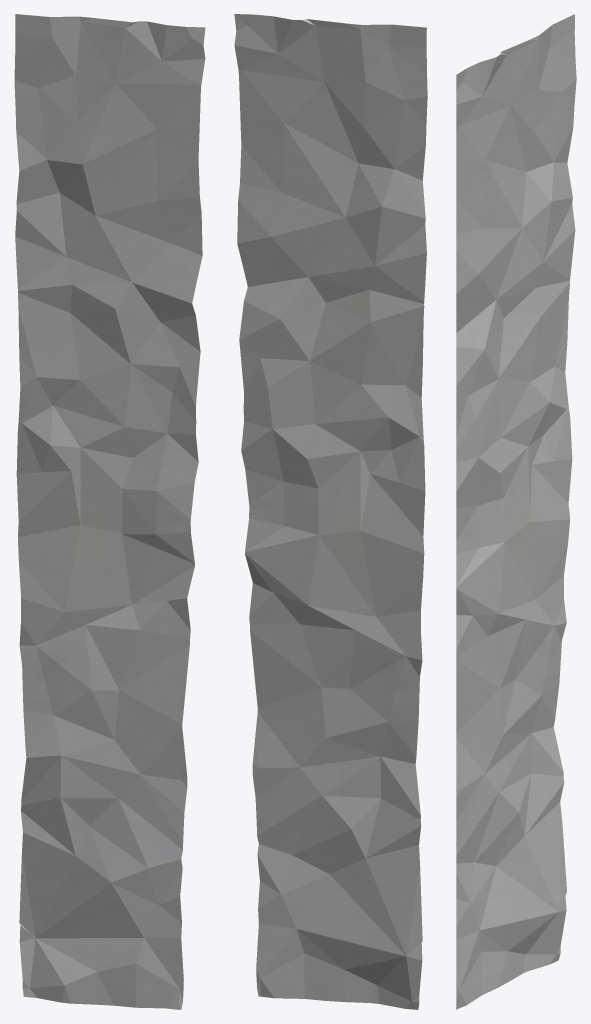
The picture shows the model from 3 angles, left to right: view 1: azimuth 30°, elevation 25°; view 2: azimuth 210°, elevation 25°; view 3: azimuth 270°, elevation 25°; orthographic projection. The views are drawn at different scales.
Size of the model in its own units: 0.1156 by 0.8373 by 0.0965.
Materials: 1 (1 with a texture image).
